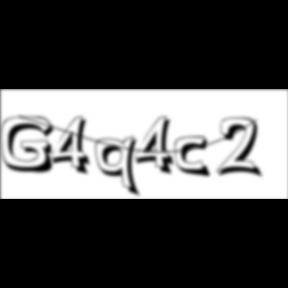2: (216, 117, 266, 181)
4: (50, 115, 97, 179), (134, 115, 180, 179)
G: (2, 116, 60, 176)
c: (176, 136, 216, 180)
q: (96, 135, 144, 200)
